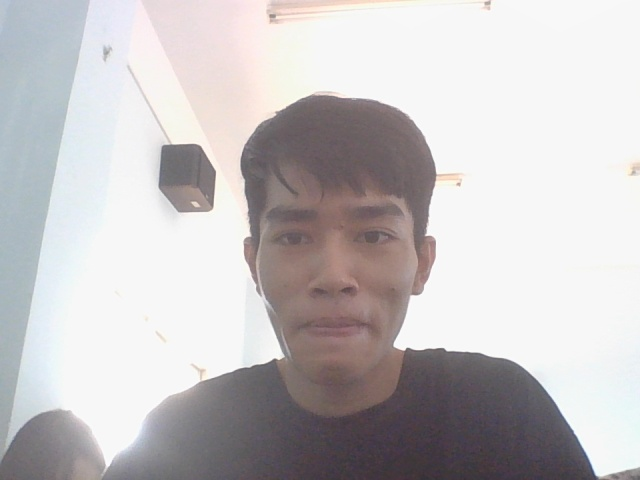real: (226, 82, 452, 403)
